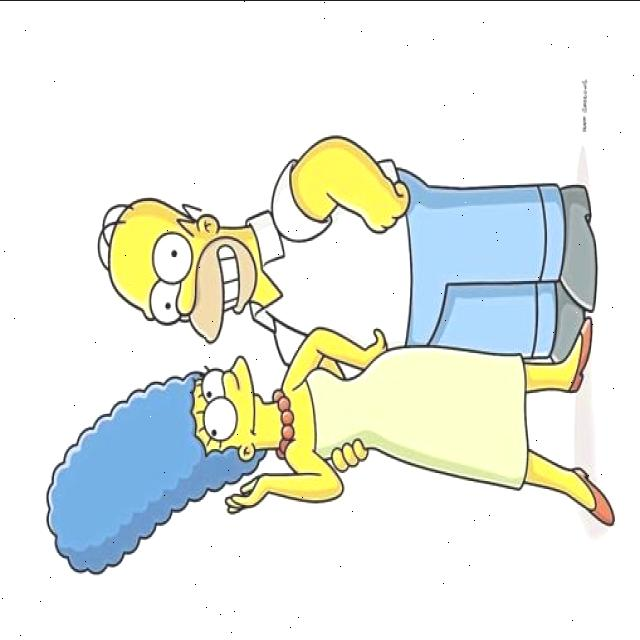Homer Simpson: (94, 192, 268, 346)
Marge Simpson: (41, 350, 298, 578)
